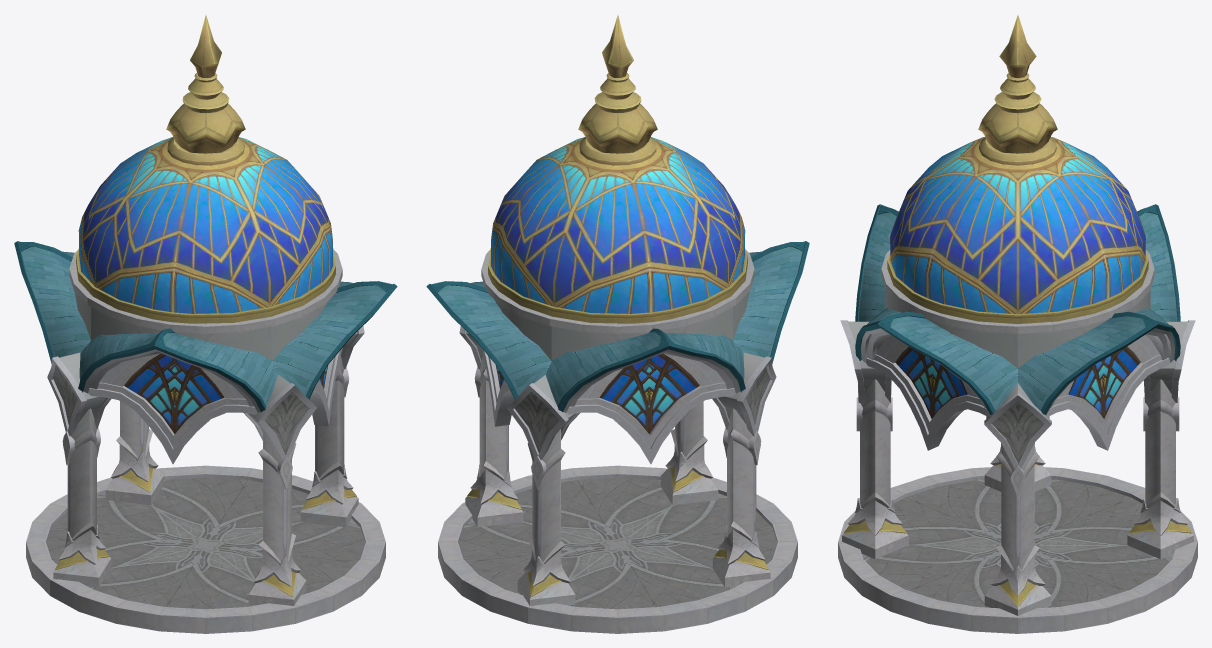
The model's file is Homeworld_Exterior_Xm_Build_JjyPavilionS_01_Lod0.fbx.
3 renders of one model, left to right at view 1: azimuth 30°, elevation 25°; view 2: azimuth 150°, elevation 25°; view 3: azimuth 270°, elevation 25°, orthographic.
Visible parts, largest first — view 1: Area_Xm_Build_XKC_Jiy_03_Lod0(Clone) (×4), Area_Xm_Build_XKC_Jiy_06_Lod0(Clone); view 2: Area_Xm_Build_XKC_Jiy_03_Lod0(Clone) (×4), Area_Xm_Build_XKC_Jiy_06_Lod0(Clone); view 3: Area_Xm_Build_XKC_Jiy_03_Lod0(Clone) (×4), Area_Xm_Build_XKC_Jiy_06_Lod0(Clone).
Boxes of the visible parts, <box> form: Area_Xm_Build_XKC_Jiy_03_Lod0(Clone) (×4): <box>14,241,397,633</box>; Area_Xm_Build_XKC_Jiy_06_Lod0(Clone): <box>76,15,335,323</box>; Area_Xm_Build_XKC_Jiy_03_Lod0(Clone) (×4): <box>426,241,809,633</box>; Area_Xm_Build_XKC_Jiy_06_Lod0(Clone): <box>488,15,747,323</box>; Area_Xm_Build_XKC_Jiy_03_Lod0(Clone) (×4): <box>838,204,1197,633</box>; Area_Xm_Build_XKC_Jiy_06_Lod0(Clone): <box>887,15,1148,323</box>.
Size of the model in its own units: 6 by 10.01 by 6.
